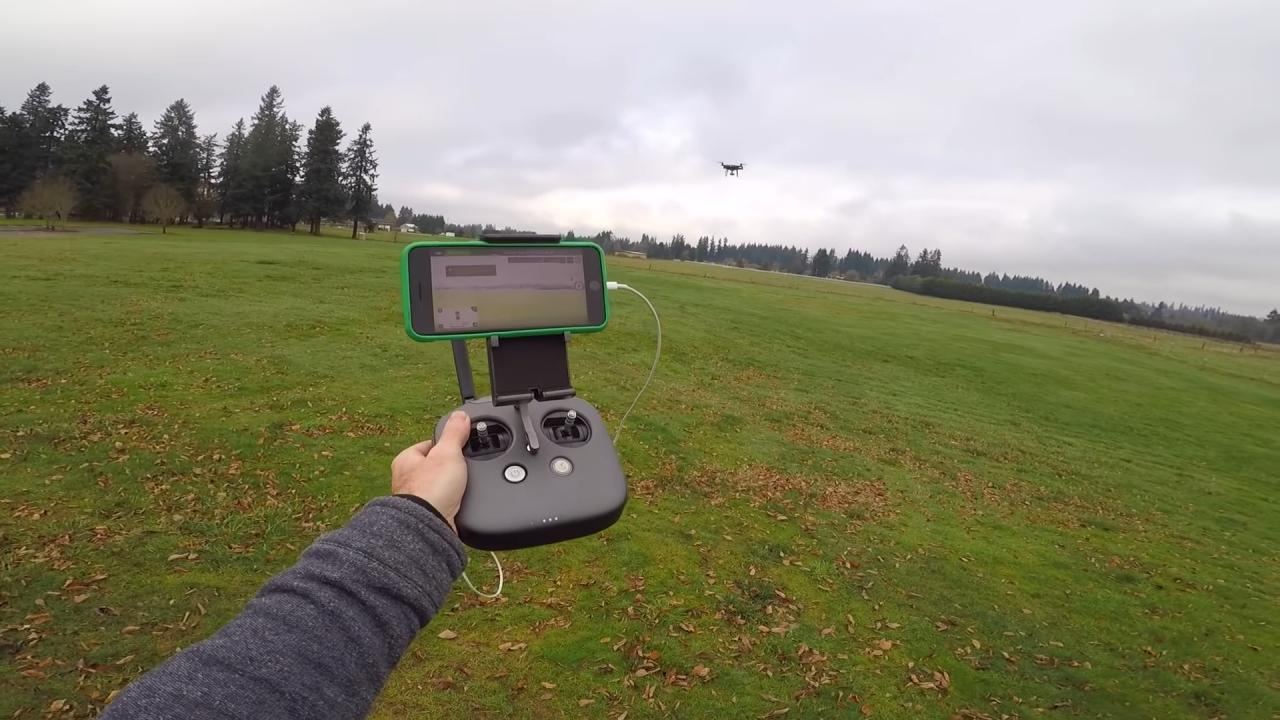Drone: (710, 151, 754, 187)
